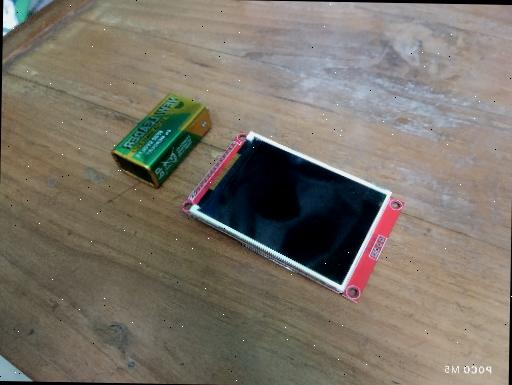Battery: (109, 90, 214, 190)
Display: (178, 128, 406, 306)
